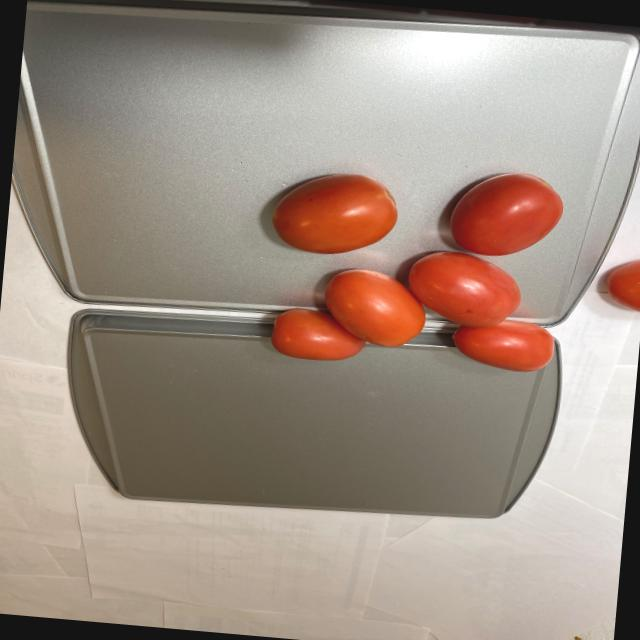tomato: (249, 152, 640, 384)
